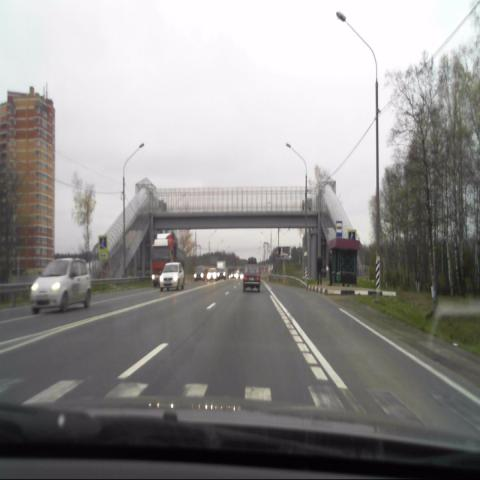5_16: (335, 221, 342, 238)
